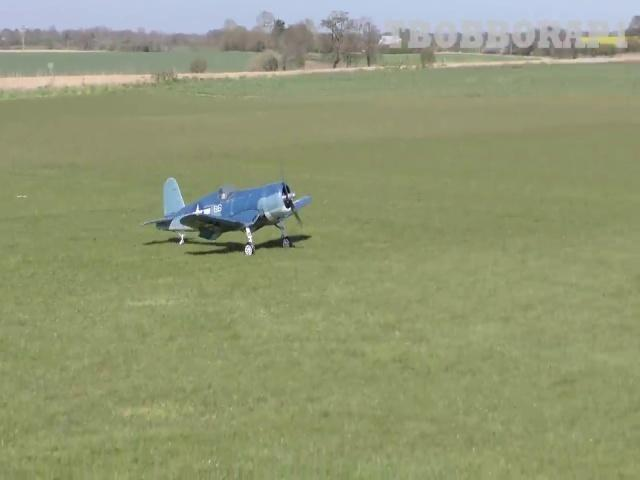Airplane: (141, 177, 312, 255)
